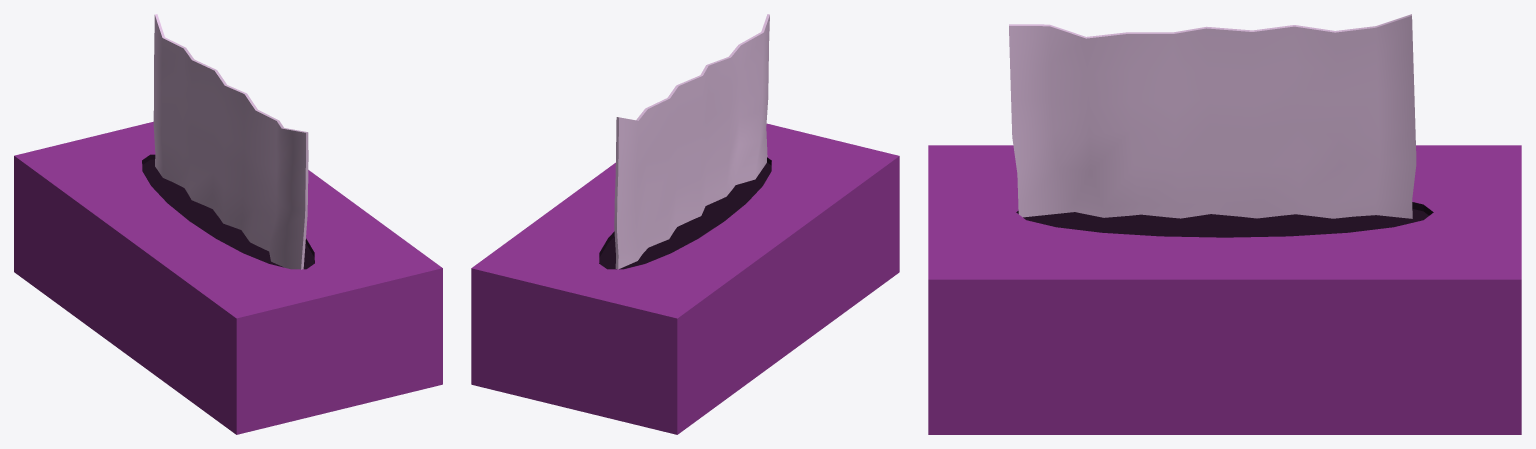
File: tissues.fbx
3 views of the same model, side by side, from view 1: azimuth 30°, elevation 25°; view 2: azimuth 150°, elevation 25°; view 3: azimuth 270°, elevation 25° (orthographic). The views are drawn at different scales.
Visible parts, largest first — view 1: polySurface2; view 2: polySurface2; view 3: polySurface2.
Boxes of the visible parts, x1,y1,x2,y2 form: polySurface2: [14, 14, 442, 434]; polySurface2: [471, 14, 899, 434]; polySurface2: [928, 14, 1521, 434].
Bounding box in the file's own units: 0.78 × 0.9514 × 1.46.
